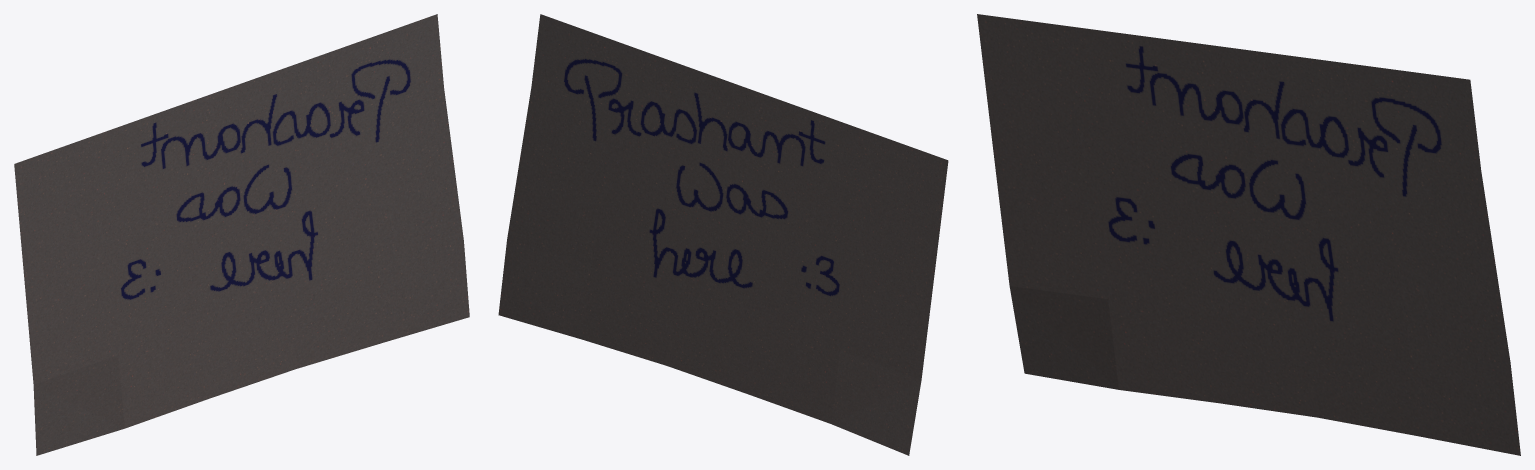
The model's file is posc.glb.
The picture shows the model from 3 angles, left to right: view 1: azimuth 30°, elevation 25°; view 2: azimuth 150°, elevation 25°; view 3: azimuth 330°, elevation 25°; orthographic projection. The views are drawn at different scales.
Parts seen in each view (by area): view 1: thing; view 2: thing; view 3: thing.
Part boxes in pixels (x1,y1,x2,y2): thing: (14, 14, 469, 455); thing: (498, 14, 948, 455); thing: (977, 14, 1520, 455).
Bounding box in the file's own units: 0.377 × 0.277 × 0.0142.
Materials: 1 (1 with a texture image).
